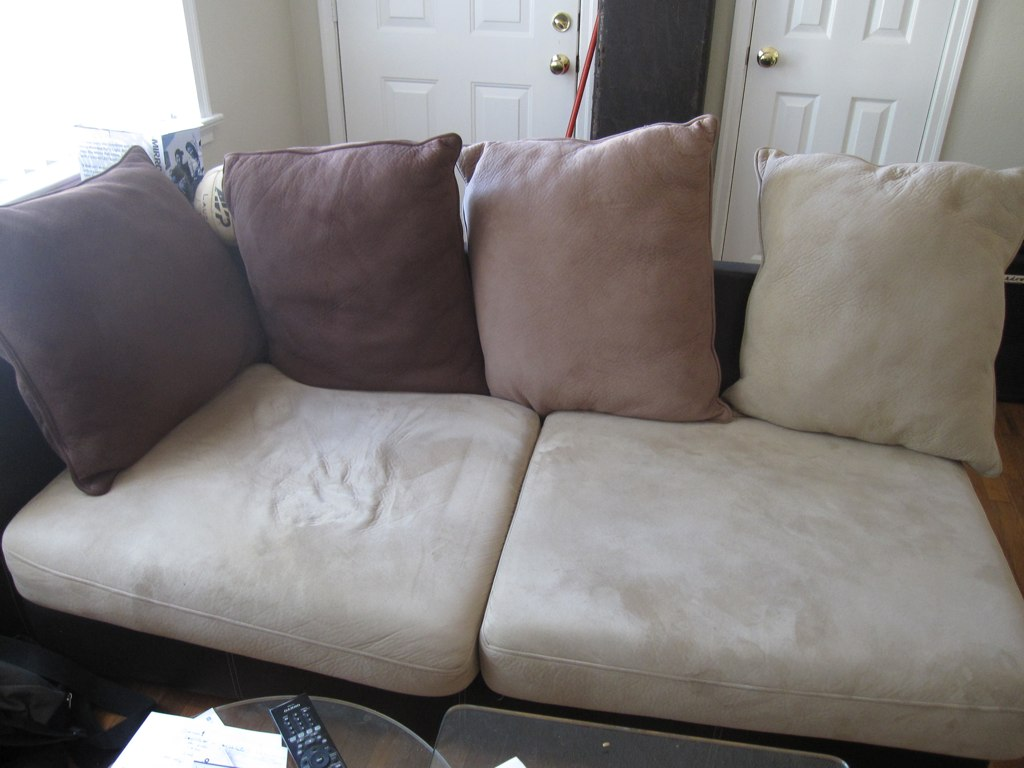sofa: (1, 148, 1016, 711)
